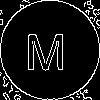M: (25, 25, 67, 70)
